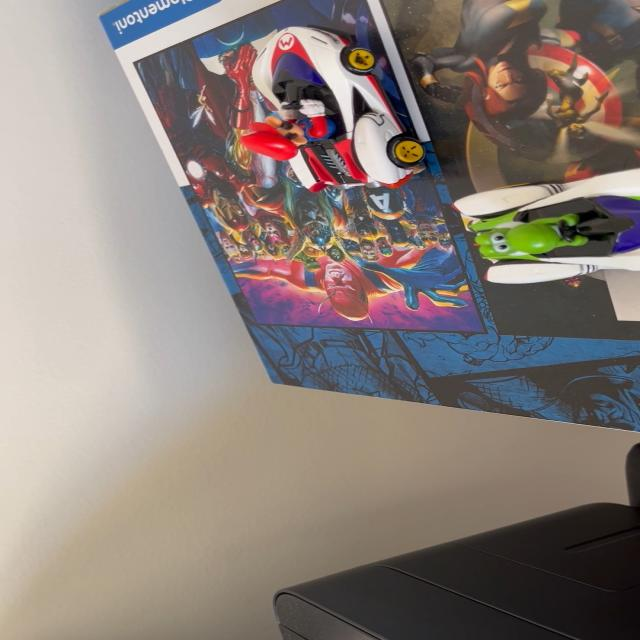mario: (222, 10, 442, 196)
yoshi: (442, 160, 638, 294)
